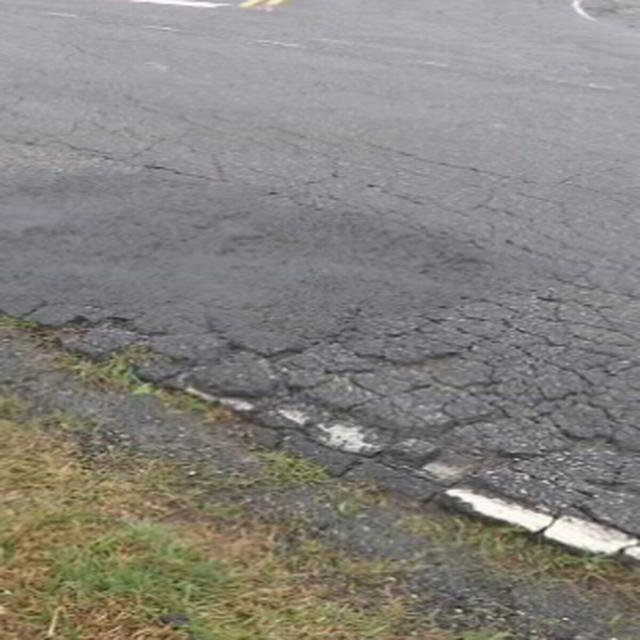Pothole: (0, 282, 640, 640)
